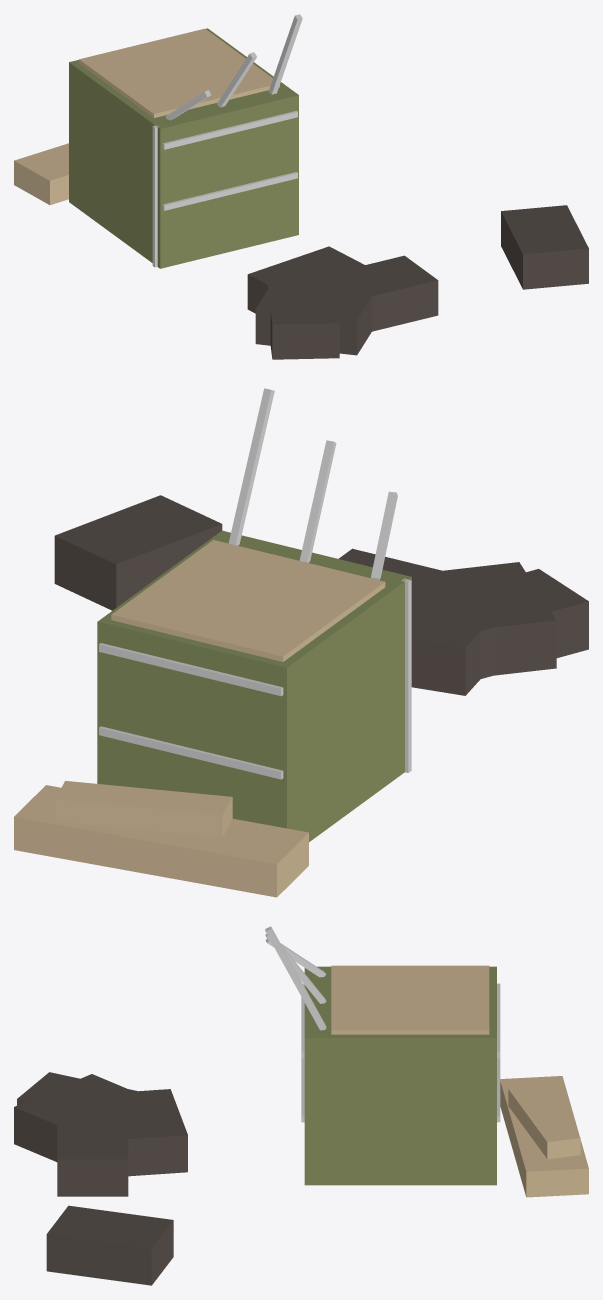
File: SM_HescoCorto1_v2_Escalonado_e2_MuyDanado_LOD0.fbx
3 renders of one model, top to bottom at view 1: azimuth 30°, elevation 25°; view 2: azimuth 150°, elevation 25°; view 3: azimuth 270°, elevation 25°, orthographic. The views are drawn at different scales.
Parts seen in each view (by area): view 1: SM_hesco_piezas_v50_LOD0; view 2: SM_hesco_piezas_v50_LOD0; view 3: SM_hesco_piezas_v50_LOD0.
Part boxes in pixels (box(x1,y1,x2,y2)): SM_hesco_piezas_v50_LOD0: box(14, 14, 588, 359); SM_hesco_piezas_v50_LOD0: box(14, 388, 588, 897); SM_hesco_piezas_v50_LOD0: box(14, 926, 588, 1285).
Size of the model in its own units: 2.76 by 1.74 by 3.64.
